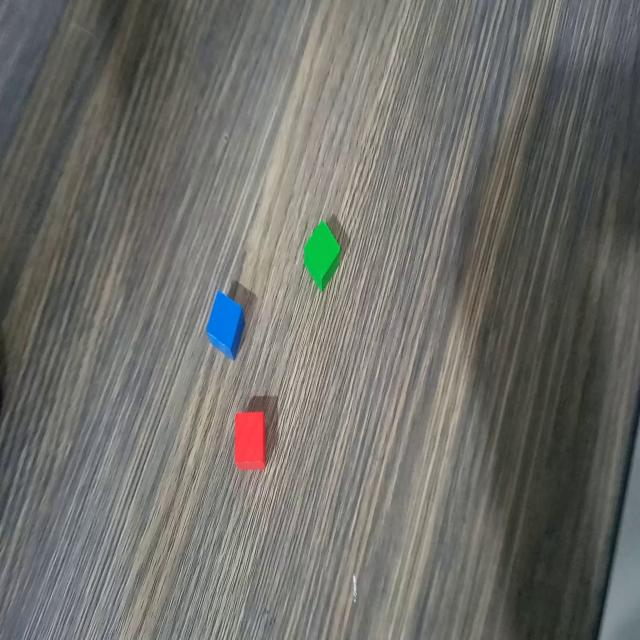cube: (202, 286, 246, 361), (301, 216, 344, 290), (230, 407, 270, 472)
